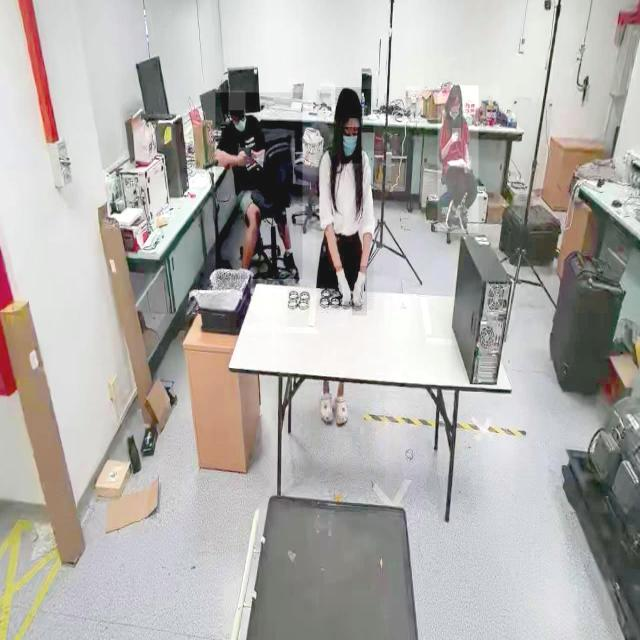face_mask: (341, 127, 361, 164)
hand_glove: (351, 266, 367, 316), (335, 266, 349, 309)
hand_noglove: (246, 144, 258, 164), (238, 148, 250, 167), (464, 156, 472, 174), (451, 128, 461, 142)
head_nohelmet: (335, 87, 362, 119), (228, 91, 246, 111), (449, 84, 463, 98)
person: (215, 92, 303, 280), (316, 89, 374, 311), (437, 85, 479, 234)
shoes: (282, 247, 301, 280), (457, 203, 471, 234), (445, 195, 457, 231)
